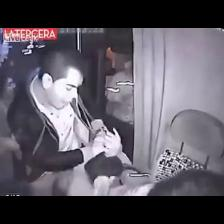person: (7, 49, 121, 195), (105, 54, 134, 160), (147, 170, 223, 195)
